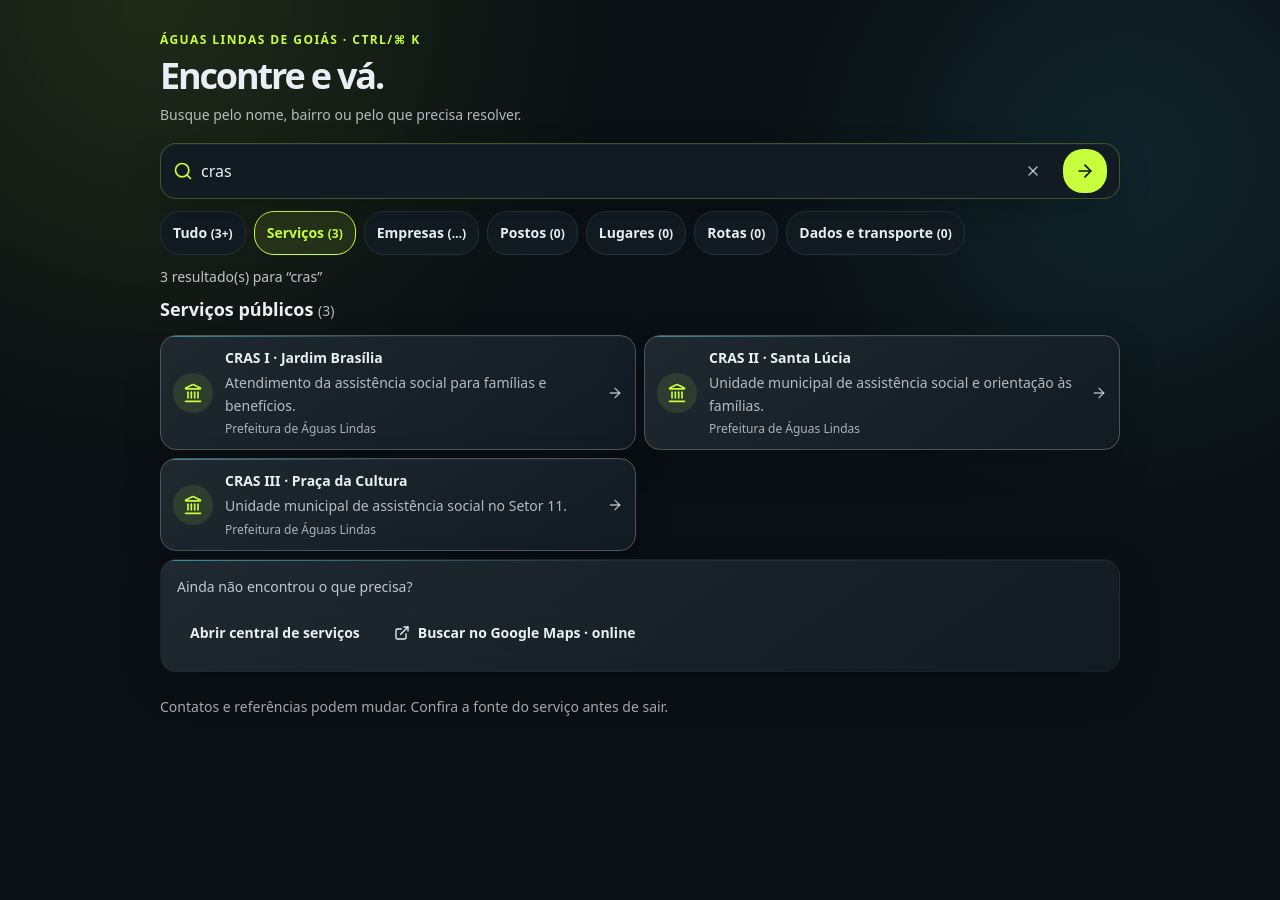
Test case: does not report zero companies before loading the optional catalog
Expected: the button "Empresas (…)" is shown, [364,211,479,255]
Click the button "Tudo (3+)".
click(203, 233)  # box [160,211,246,255]
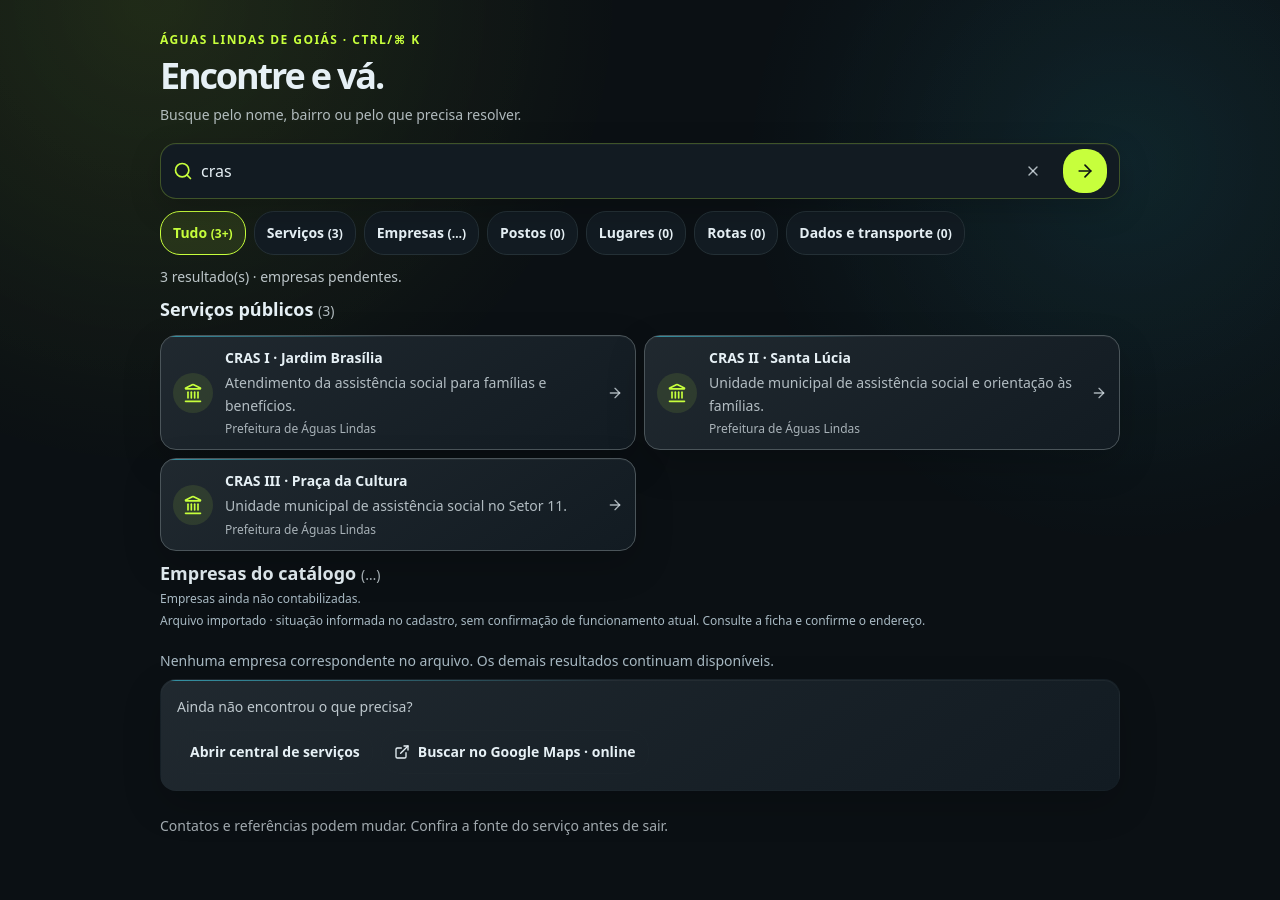
Expected: the message shows "empresas pendentes", [160,267,402,286]
Expected: the text "Empresas ainda não contabilizadas." is shown, [160,590,361,607]
